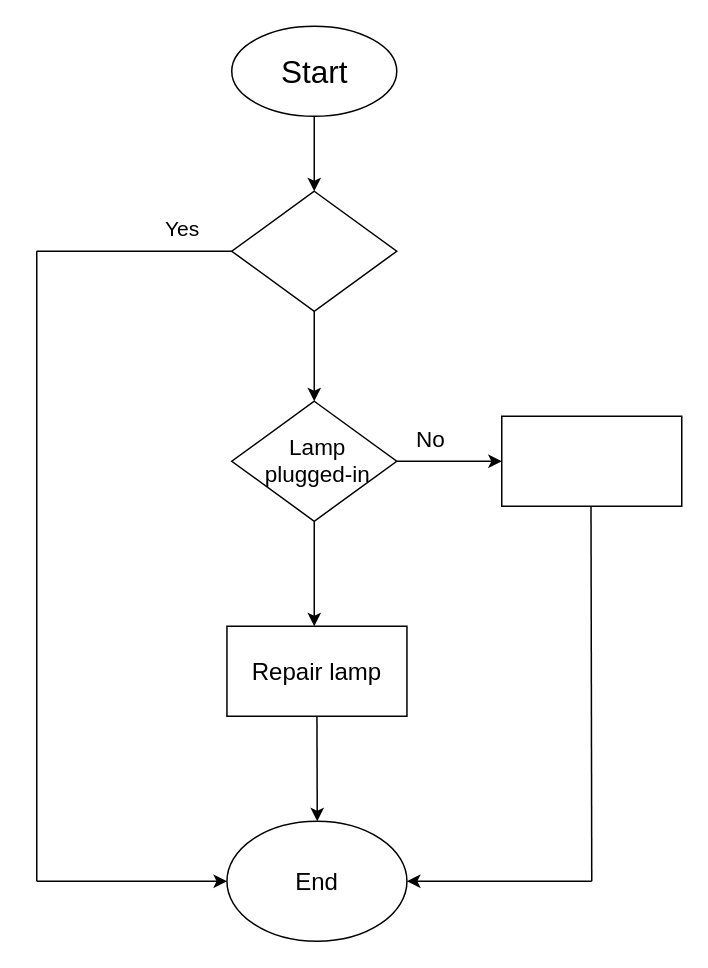
The diagram is 708 pixels wide and 968 high, and some of its shapes have lost their labels. Here are the shapes that lost their labels. From the top down, the centre of each, then its label:
At point (313, 250): "Is lamp working".
At point (591, 460): "Plug-in lamp".
